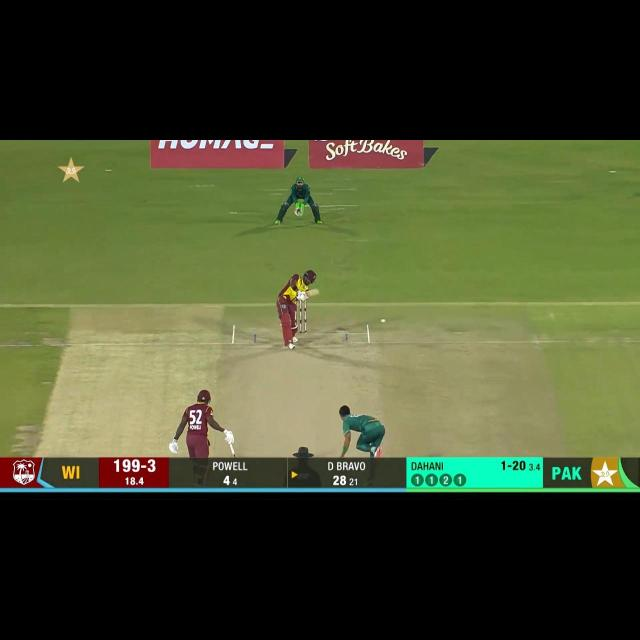bat: (305, 288, 320, 298)
toe: (315, 288, 320, 298)
